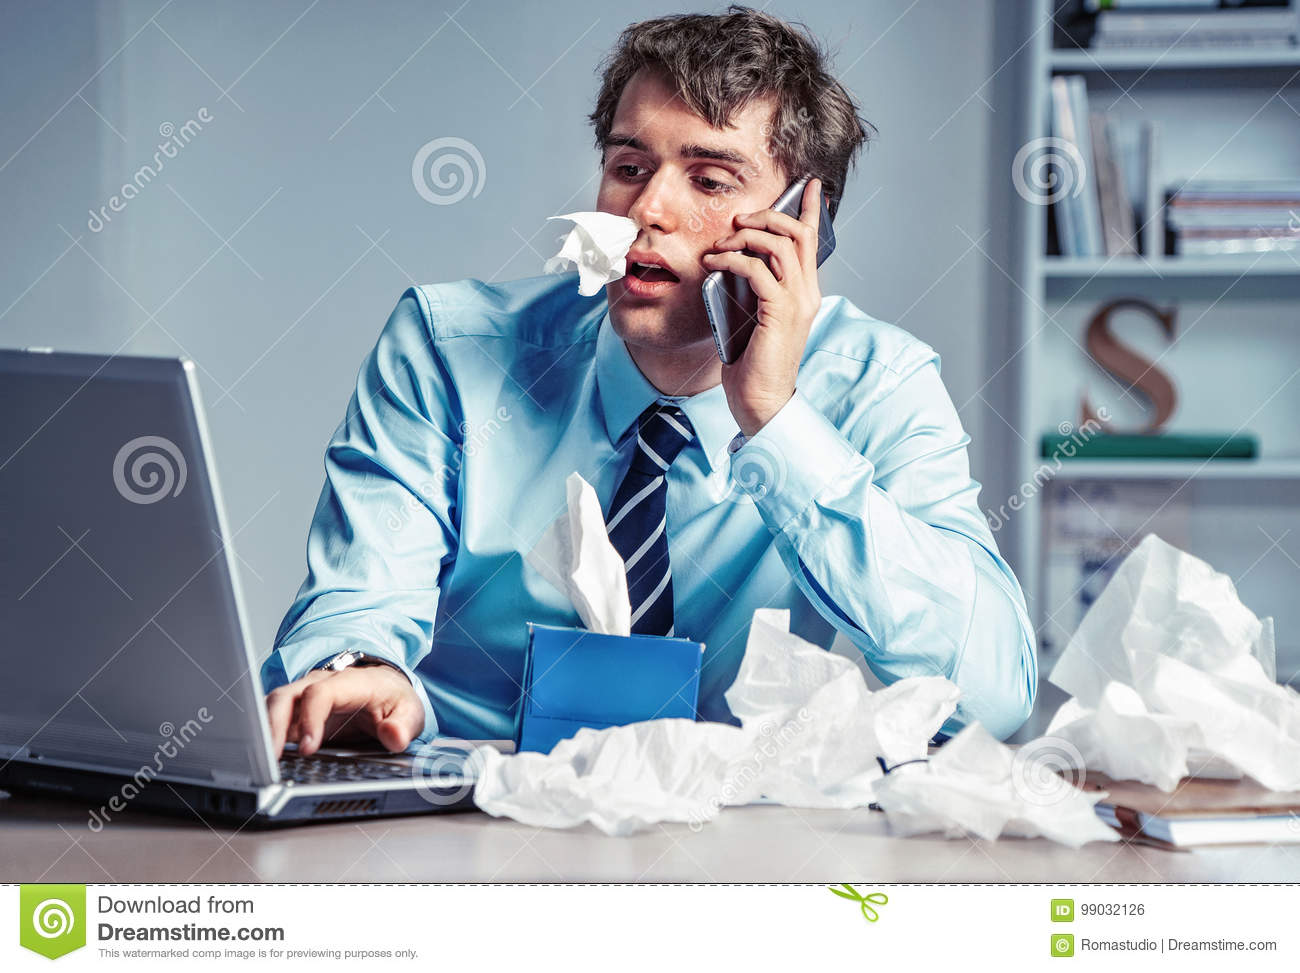phone: (707, 184, 839, 365)
talk: (589, 124, 846, 438)
